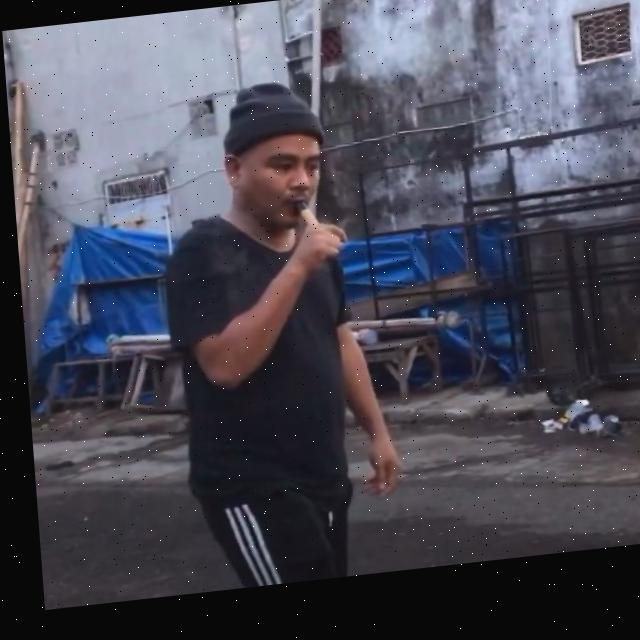vape: (291, 205, 315, 232)
